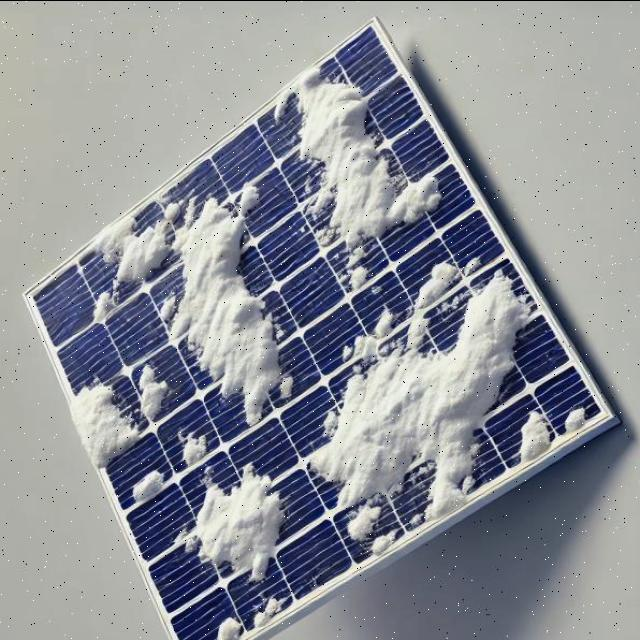Anomaly Solar Panel: (0, 18, 612, 640)
Snow: (279, 222, 541, 570), (210, 48, 469, 304), (74, 179, 303, 447), (166, 446, 297, 586), (62, 365, 150, 472), (498, 404, 557, 463), (136, 361, 170, 420), (125, 462, 170, 505), (249, 585, 288, 631), (554, 398, 591, 438), (172, 430, 208, 465), (363, 523, 402, 555), (213, 612, 243, 640)
